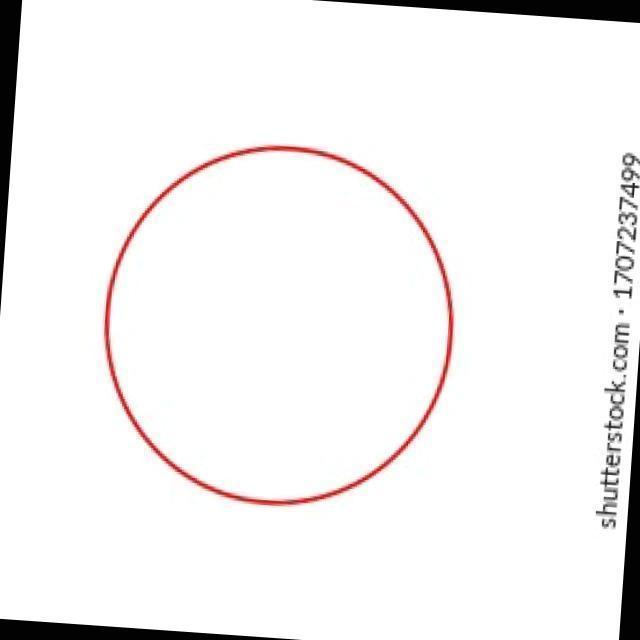Circle: (102, 140, 466, 508)
